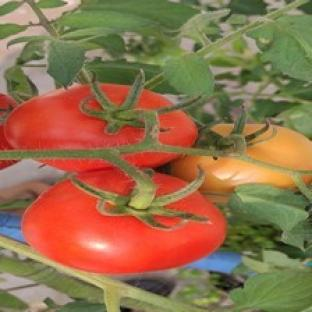Tomato: (23, 180, 225, 274), (6, 85, 144, 150), (170, 156, 295, 200), (0, 94, 16, 150)
